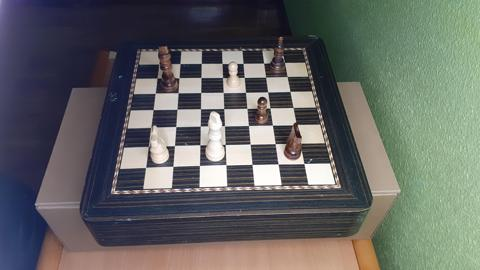xcorner: (155, 59, 161, 65), (154, 73, 160, 79), (149, 105, 155, 111), (147, 123, 153, 129), (144, 143, 150, 149), (142, 164, 148, 170), (177, 59, 183, 65), (176, 73, 182, 79), (175, 88, 181, 94), (174, 105, 180, 111), (172, 123, 178, 129), (171, 142, 177, 148), (169, 164, 175, 170), (199, 59, 205, 65), (198, 73, 204, 79), (198, 88, 204, 94), (198, 105, 204, 111), (198, 123, 204, 129), (197, 142, 203, 148), (197, 163, 203, 169), (220, 59, 226, 65), (221, 73, 227, 79), (221, 88, 227, 94), (222, 104, 228, 110), (223, 141, 229, 147), (224, 162, 230, 168), (241, 59, 247, 65), (242, 73, 248, 79), (244, 88, 250, 94), (245, 104, 251, 110), (247, 122, 253, 128), (249, 141, 255, 147), (251, 162, 257, 168), (262, 59, 268, 65), (264, 73, 270, 79), (266, 88, 272, 94), (269, 104, 275, 110), (272, 121, 278, 127), (274, 140, 280, 146), (278, 161, 284, 167), (283, 59, 289, 65), (286, 73, 292, 79), (289, 87, 295, 93), (292, 104, 298, 110), (296, 121, 302, 127), (300, 140, 306, 146), (304, 160, 310, 166), (152, 89, 157, 95), (223, 122, 228, 128)
